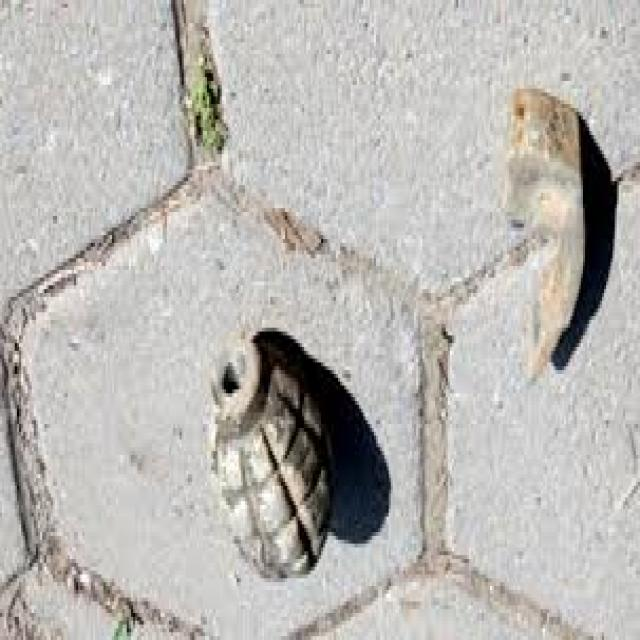grenade: (210, 329, 338, 593)
